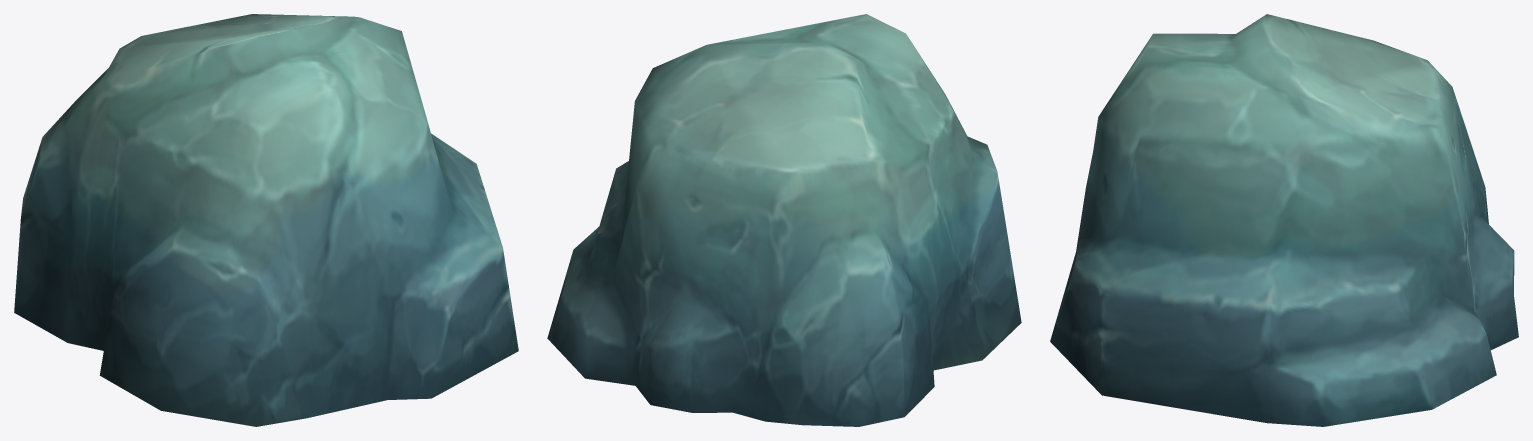
The model's file is Beach_rock_02.fbx.
The picture shows the model from 3 angles, left to right: view 1: azimuth 30°, elevation 25°; view 2: azimuth 150°, elevation 25°; view 3: azimuth 270°, elevation 25°; orthographic projection. The views are drawn at different scales.
Parts seen in each view (by area): view 1: Beach_rock_02; view 2: Beach_rock_02; view 3: Beach_rock_02.
Boxes of the visible parts, <box> form: Beach_rock_02: <box>14,14,518,426</box>; Beach_rock_02: <box>547,14,1021,426</box>; Beach_rock_02: <box>1050,14,1518,426</box>.
Size of the model in its own units: 169 by 118 by 174.
